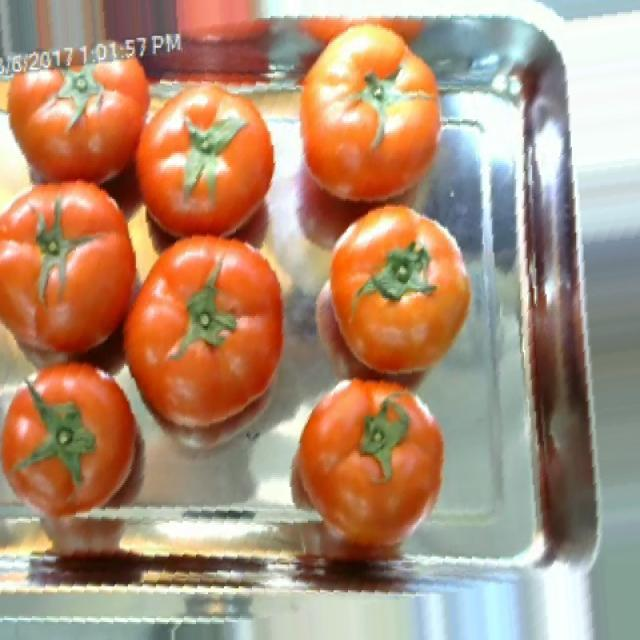kirmizi: (134, 224, 302, 430)
